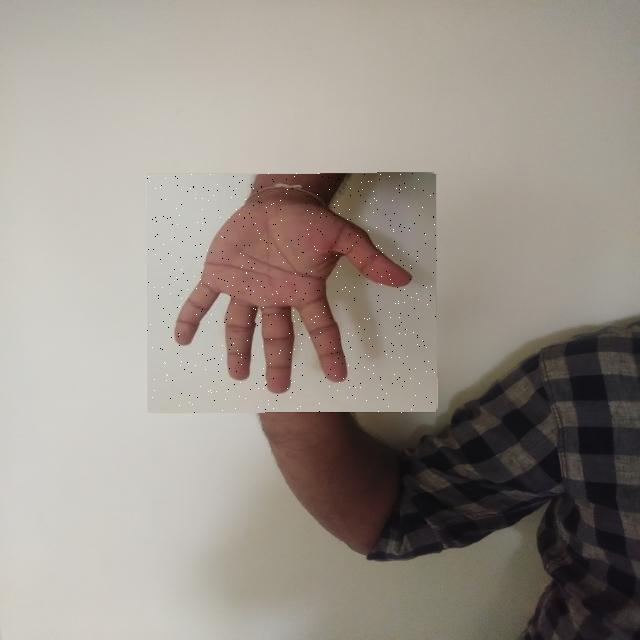Yes: (147, 173, 437, 413)
